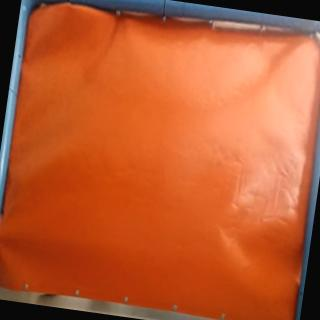Hit-hRxx: (0, 226, 13, 243)
